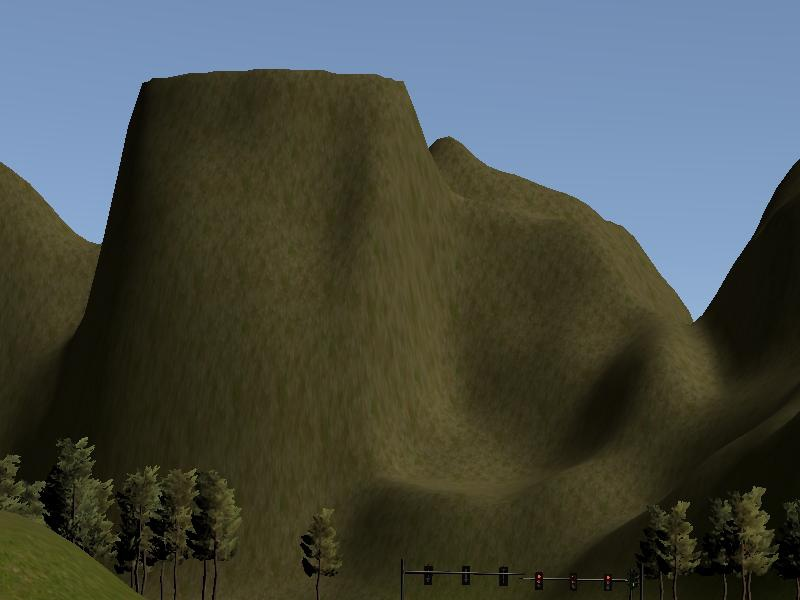Off: (570, 573, 576, 591)
Red: (604, 573, 611, 593), (536, 572, 542, 591)
